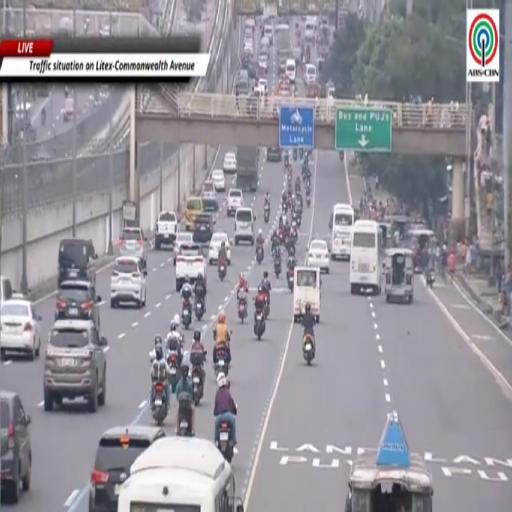bus: (117, 437, 243, 511), (350, 220, 384, 295), (330, 203, 354, 259)
car: (89, 425, 165, 511), (44, 320, 107, 412), (0, 390, 32, 504), (0, 294, 41, 360), (55, 281, 101, 330), (110, 256, 146, 308), (58, 239, 97, 286), (176, 244, 206, 292), (119, 228, 148, 267), (155, 212, 178, 249), (306, 239, 330, 273), (209, 232, 231, 264), (193, 213, 214, 244), (174, 232, 193, 265), (201, 180, 219, 212), (227, 188, 244, 216), (0, 275, 13, 307), (61, 97, 74, 123), (211, 169, 225, 192), (223, 152, 236, 173), (305, 64, 317, 84), (267, 147, 281, 162), (99, 23, 114, 37), (258, 54, 268, 74), (243, 42, 254, 56), (245, 16, 255, 29), (257, 78, 267, 90), (245, 27, 253, 39)
jeepney: (346, 412, 433, 511), (384, 248, 414, 303), (407, 229, 434, 274), (384, 215, 410, 239), (379, 222, 393, 248), (306, 82, 320, 98)
motorcycle: (152, 382, 167, 426), (218, 422, 234, 462), (168, 351, 180, 392), (192, 365, 203, 406), (215, 349, 228, 377), (303, 334, 314, 364), (182, 298, 192, 330), (254, 311, 265, 340), (177, 415, 191, 437), (238, 299, 247, 323), (195, 299, 204, 321), (218, 260, 226, 281), (426, 270, 435, 287), (264, 292, 269, 319), (274, 259, 281, 278), (256, 245, 263, 264), (288, 269, 293, 291), (286, 168, 292, 186), (296, 210, 302, 228), (290, 229, 297, 244), (304, 175, 311, 189), (264, 204, 269, 223), (301, 166, 307, 181), (284, 235, 290, 249), (288, 245, 295, 257), (282, 201, 288, 214), (306, 192, 310, 207), (279, 230, 283, 244), (295, 184, 300, 195), (293, 149, 297, 161), (285, 154, 288, 168), (299, 149, 303, 159)
truck: (237, 147, 259, 191), (275, 24, 292, 73)
